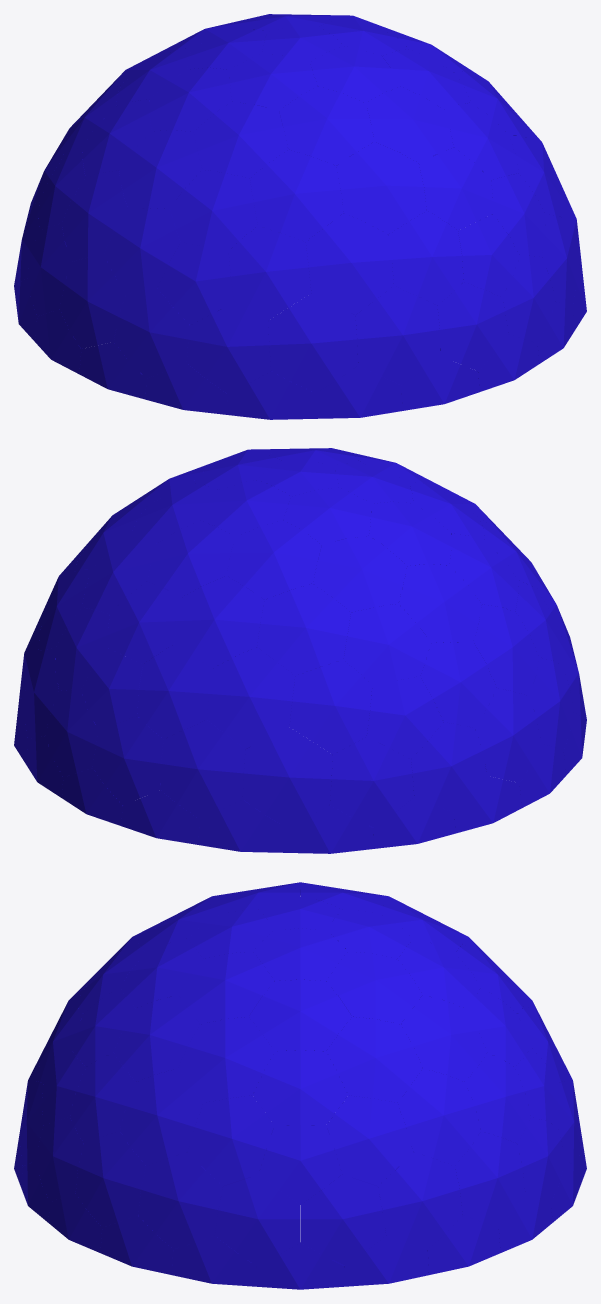
File: DomeFractured.fbx
3 views of the same model, one above another, from view 1: azimuth 30°, elevation 25°; view 2: azimuth 150°, elevation 25°; view 3: azimuth 270°, elevation 25° (orthographic).
Parts seen in each view (by area): view 1: Icosphere_cell.080, Icosphere_cell.030, Icosphere_cell.082, Icosphere_cell.066, Icosphere_cell.067, Icosphere_cell.031, Icosphere_cell.017, Icosphere_cell.065, Icosphere_cell.048, Icosphere_cell.049, Icosphere_cell.029, Icosphere_cell.064 (+43 smaller); view 2: Icosphere_cell.076, Icosphere_cell.036, Icosphere_cell.074, Icosphere_cell.061, Icosphere_cell.060, Icosphere_cell.035, Icosphere_cell.018, Icosphere_cell.059, Icosphere_cell.051, Icosphere_cell.052, Icosphere_cell.037, Icosphere_cell.063 (+43 smaller); view 3: Icosphere_cell.071, Icosphere_cell.085, Icosphere_cell.057, Icosphere_cell.070, Icosphere_cell.009, Icosphere_cell.006, Icosphere_cell.027, Icosphere_cell.039, Icosphere_cell.026, Icosphere_cell.040, Icosphere_cell.044, Icosphere_cell.045 (+40 smaller).
Boxes of the visible parts, left/top/right/bottom form: Icosphere_cell.080: left=268, top=293, right=358, bottom=392; Icosphere_cell.030: left=306, top=213, right=393, bottom=315; Icosphere_cell.082: left=355, top=286, right=440, bottom=384; Icosphere_cell.066: left=250, top=149, right=343, bottom=241; Icosphere_cell.067: left=336, top=142, right=426, bottom=234; Icosphere_cell.031: left=228, top=225, right=311, bottom=320; Icosphere_cell.017: left=186, top=302, right=270, bottom=393; Icosphere_cell.065: left=279, top=86, right=374, bottom=165; Icosphere_cell.048: left=193, top=102, right=288, bottom=178; Icosphere_cell.049: left=170, top=169, right=257, bottom=250; Icosphere_cell.029: left=388, top=210, right=463, bottom=305; Icosphere_cell.064: left=119, top=130, right=202, bottom=208; Icosphere_cell.076: left=242, top=727, right=332, bottom=826; Icosphere_cell.036: left=207, top=647, right=294, bottom=749; Icosphere_cell.074: left=160, top=720, right=245, bottom=818; Icosphere_cell.061: left=257, top=583, right=350, bottom=675; Icosphere_cell.060: left=174, top=576, right=264, bottom=668; Icosphere_cell.035: left=289, top=659, right=372, bottom=754; Icosphere_cell.018: left=330, top=736, right=414, bottom=827; Icosphere_cell.059: left=226, top=520, right=321, bottom=599; Icosphere_cell.051: left=312, top=536, right=407, bottom=612; Icosphere_cell.052: left=343, top=603, right=430, bottom=684; Icosphere_cell.037: left=137, top=644, right=212, bottom=739; Icosphere_cell.063: left=398, top=564, right=481, bottom=642; Icosphere_cell.071: left=378, top=1152, right=462, bottom=1249; Icosphere_cell.085: left=138, top=1152, right=222, bottom=1249; Icosphere_cell.057: left=326, top=1016, right=422, bottom=1102; Icosphere_cell.070: left=178, top=1016, right=274, bottom=1102; Icosphere_cell.009: left=300, top=1174, right=385, bottom=1265; Icosphere_cell.006: left=215, top=1174, right=300, bottom=1265; Icosphere_cell.027: left=120, top=1068, right=203, bottom=1165; Icosphere_cell.039: left=397, top=1068, right=480, bottom=1165; Icosphere_cell.026: left=187, top=1095, right=274, bottom=1186; Icosphere_cell.040: left=326, top=1095, right=413, bottom=1186; Icosphere_cell.044: left=252, top=1050, right=348, bottom=1125; Icosphere_cell.045: left=249, top=979, right=351, bottom=1051.
Bounding box in the file's own units: 3000 × 1501 × 3000.
